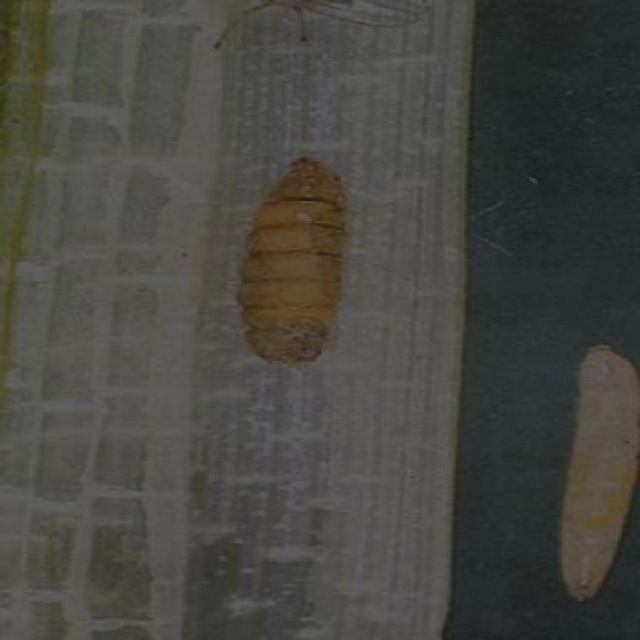whorl-maggot: (215, 141, 372, 379), (552, 330, 637, 607)
